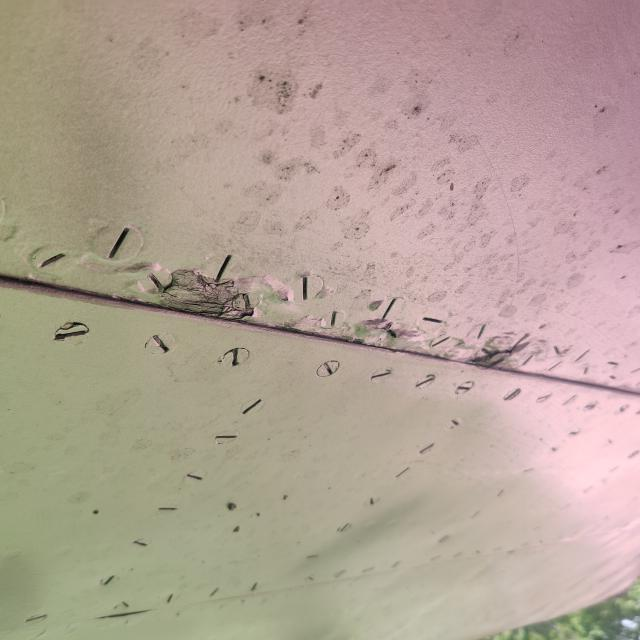paint-off: (130, 250, 273, 335)
